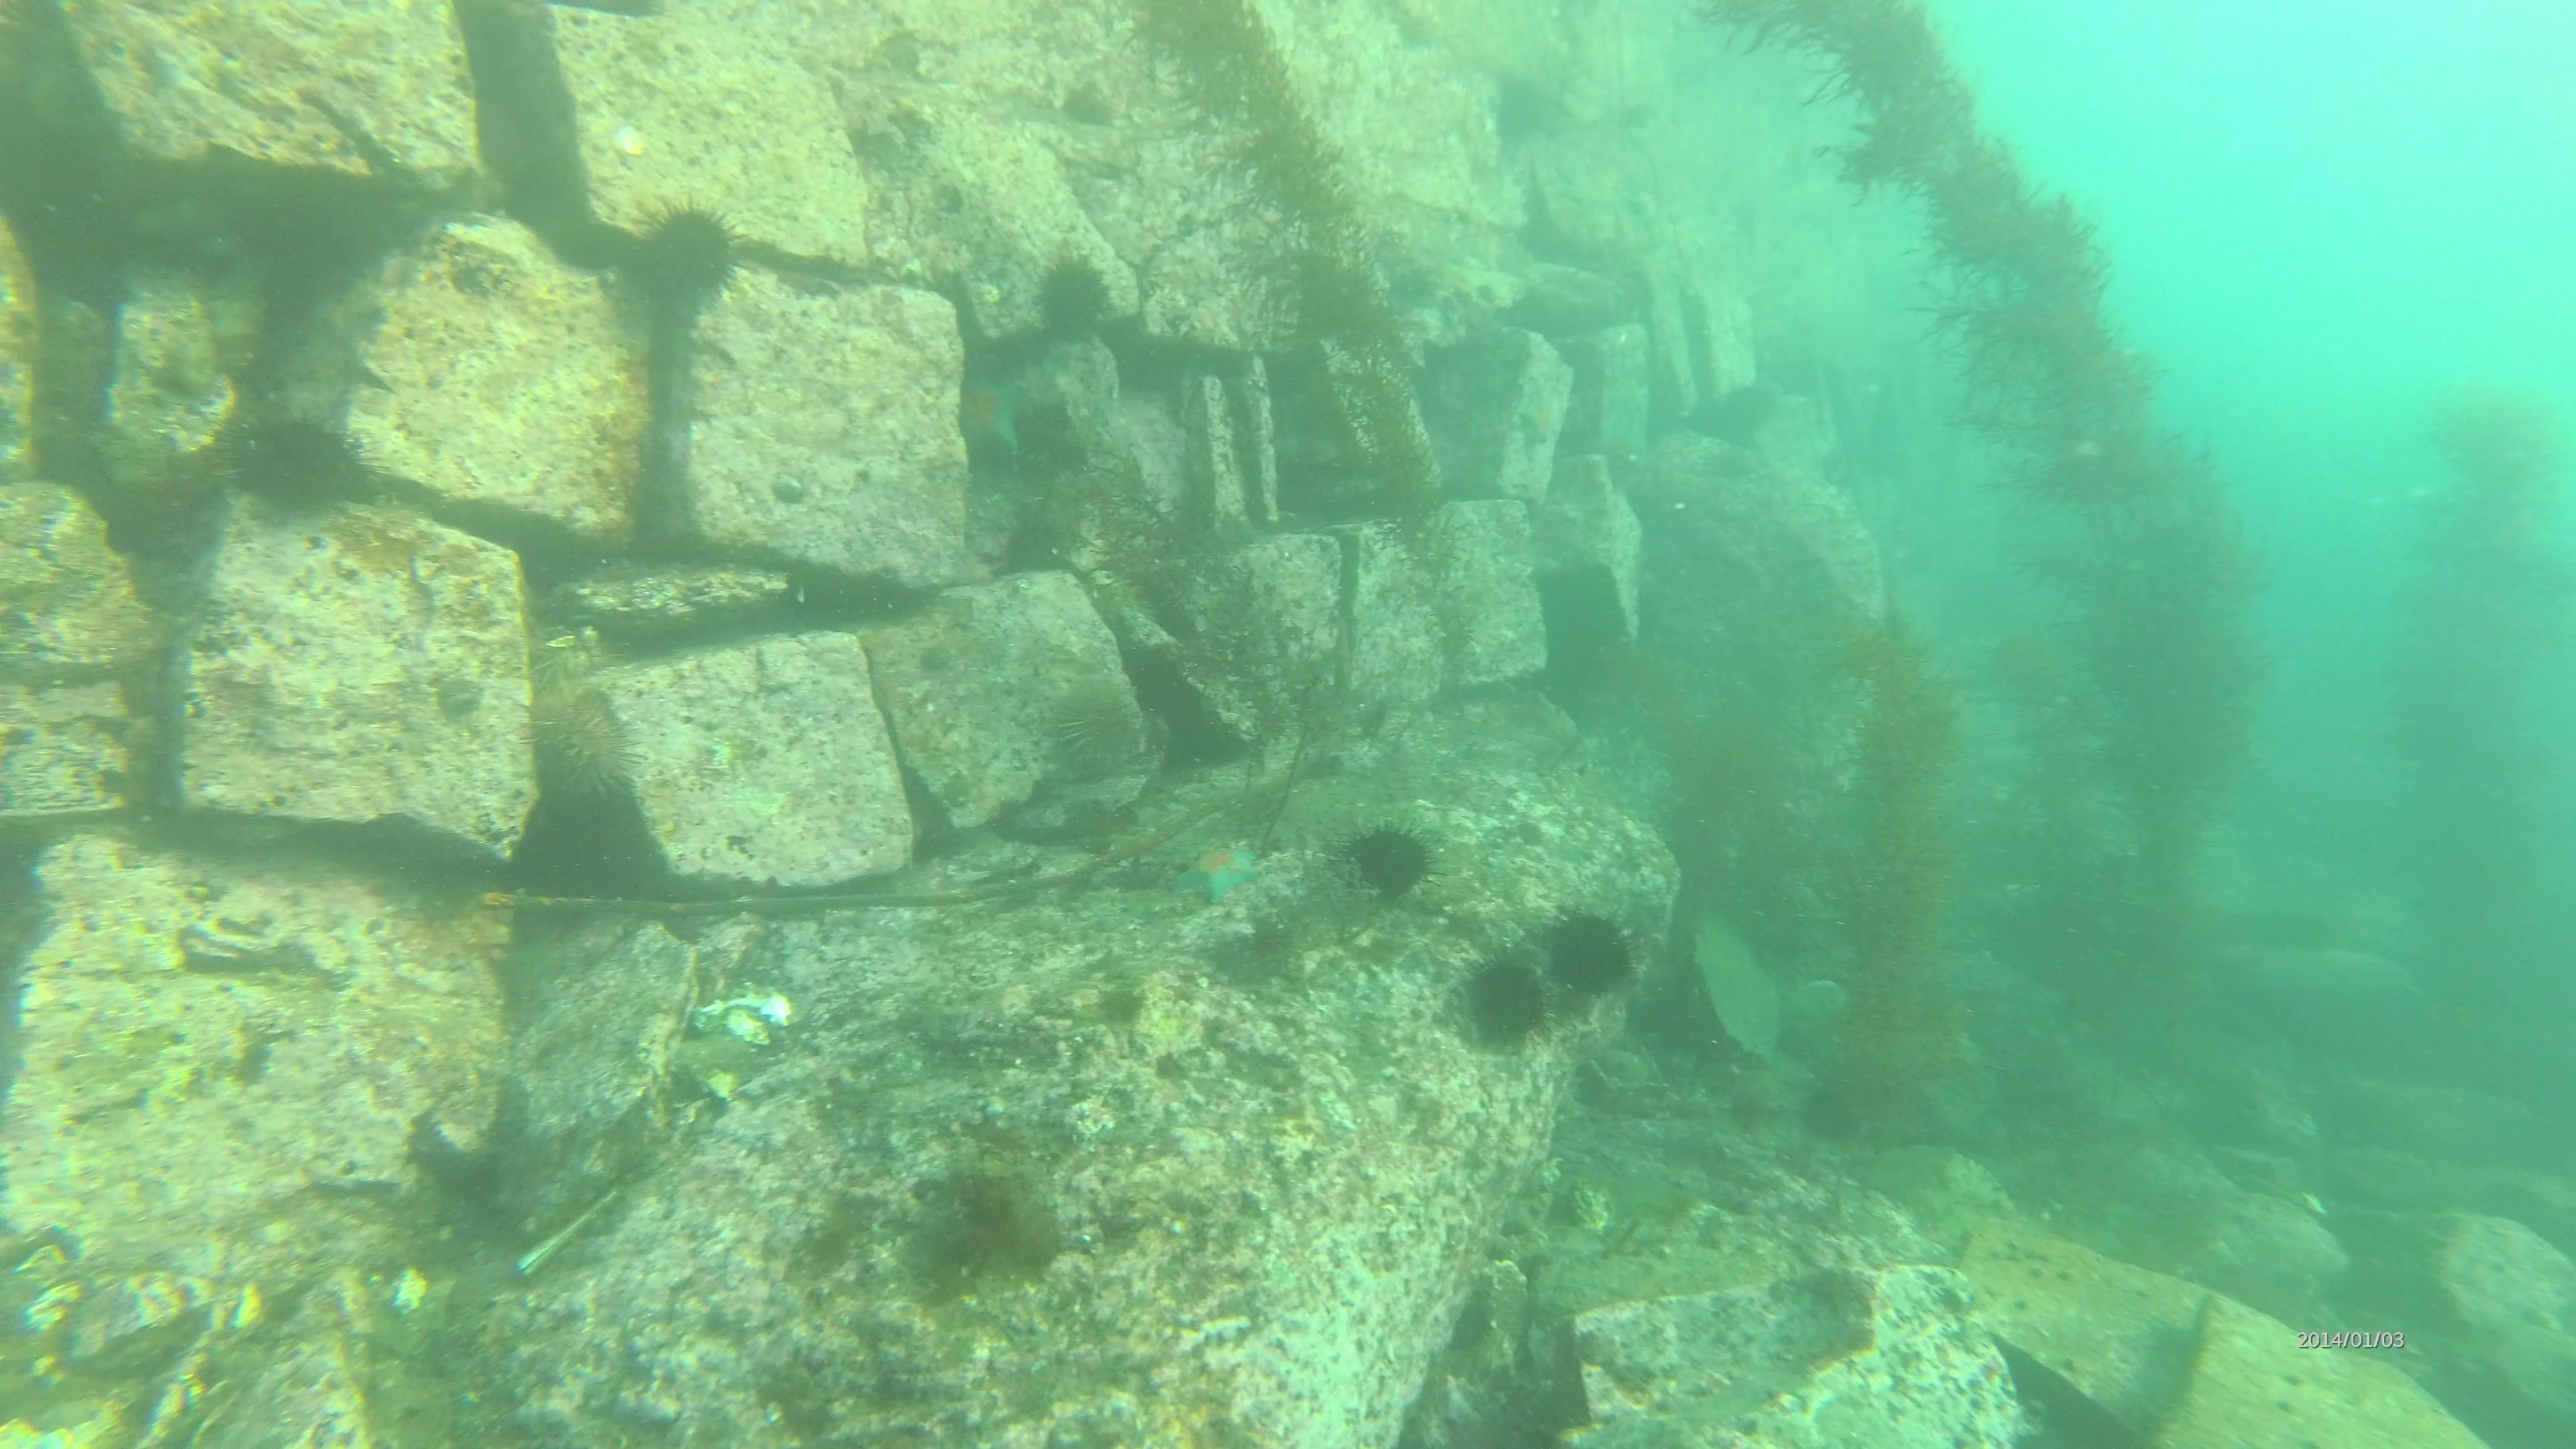echinus: (1918, 149, 2065, 283), (223, 403, 375, 524), (522, 678, 646, 810), (621, 195, 750, 318), (1033, 672, 1154, 789), (1536, 901, 1642, 1005), (1454, 947, 1555, 1053), (1334, 814, 1442, 908), (1026, 248, 1120, 349), (1481, 65, 1571, 156), (1794, 1067, 1872, 1150)
starfish: (950, 350, 1035, 476), (1166, 828, 1269, 909)
